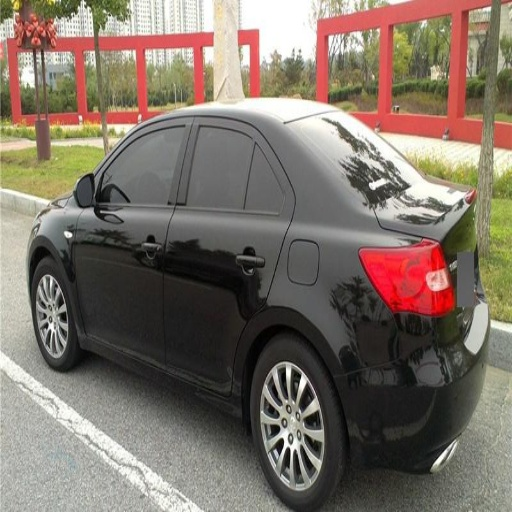back_bumper: (335, 329, 481, 471)
back_glass: (293, 113, 405, 190)
back_left_door: (166, 116, 294, 386)
